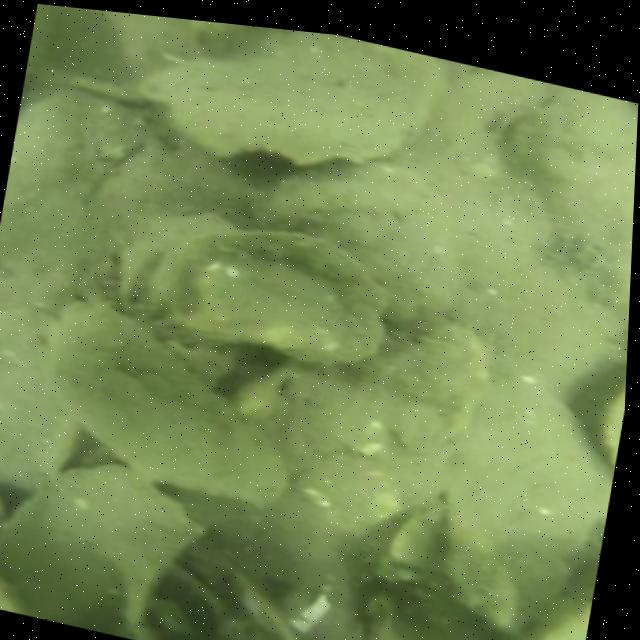Oyster-Indeterminate: (40, 293, 289, 510), (437, 379, 610, 635), (129, 216, 403, 373), (137, 30, 446, 165), (0, 461, 204, 640), (251, 163, 468, 323)
